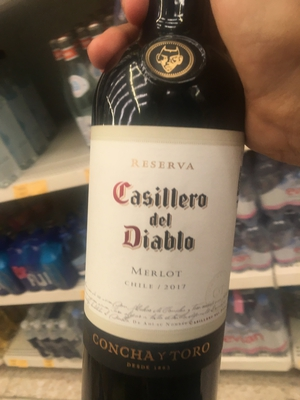casillero del diablo merlot: (70, 21, 260, 400)
